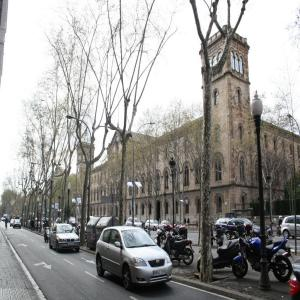Vehicle-registration-plate: (153, 271, 166, 278), (69, 243, 76, 248)
